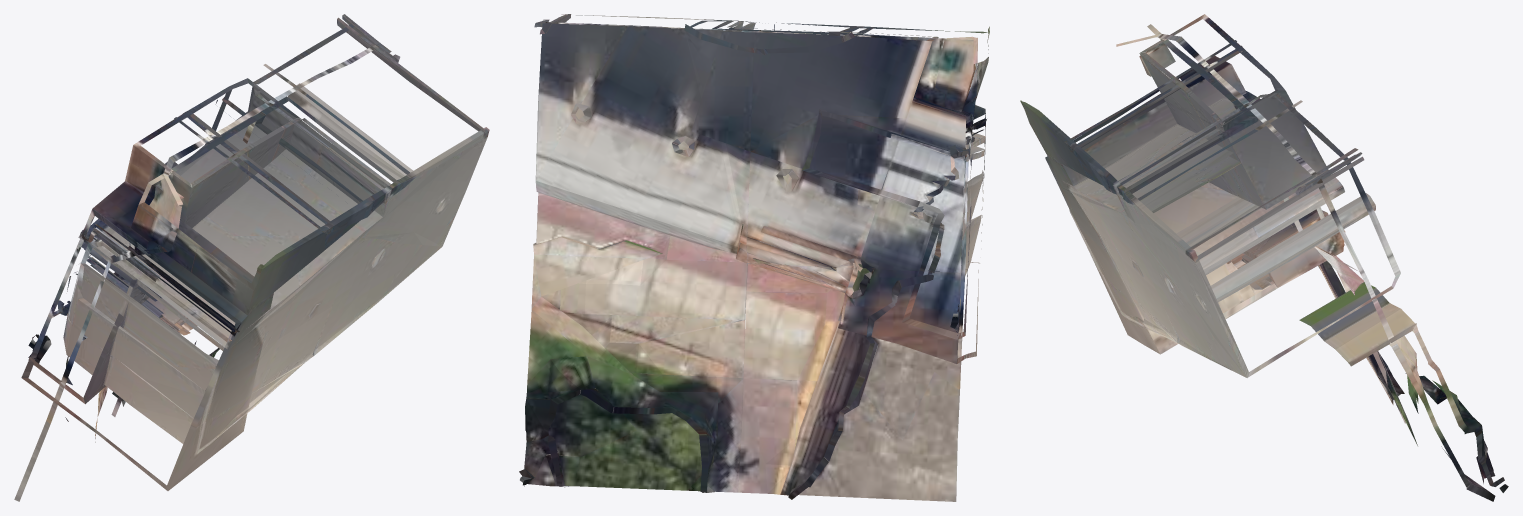
Rendered from AJVsH2xb8t_AHIsx8P9Fdko6aeoV1ZHaebR6-cCzKmtkGWIO9WhOcwnlvz77VnWhJqrQKoH7TTDKf2xwZ_h53DJJFTvwEyso0EG4BCBZwuD8UIaUH68Fr7OBZpdmoCdHxQ85LZfMTJkLO0uN7EpqWhTx_8UR.glb.
The picture shows the model from 3 angles, left to right: view 1: azimuth 30°, elevation 25°; view 2: azimuth 150°, elevation 25°; view 3: azimuth 270°, elevation 25°; orthographic projection. The views are drawn at different scales.
Size of the model in its own units: 43.21 by 37.47 by 43.04.
1 material, 1 textured.
